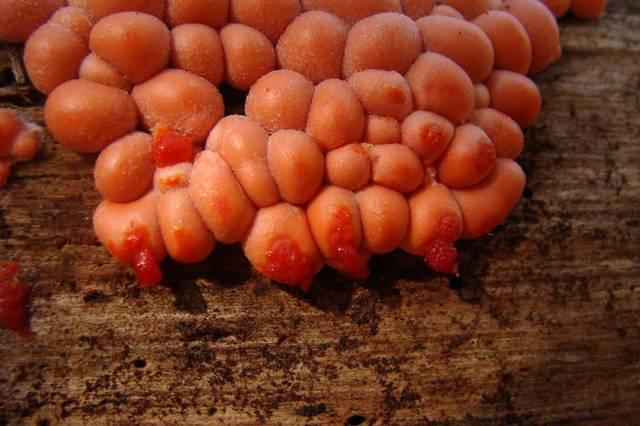Non-edible Mushroom: (11, 0, 584, 292), (92, 130, 155, 202)
